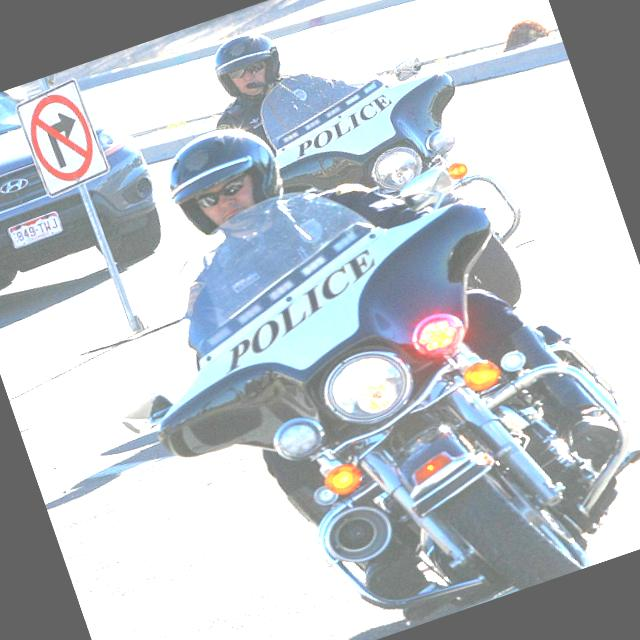Vehicle: (71, 118, 640, 640), (251, 8, 567, 362), (0, 53, 179, 316)
